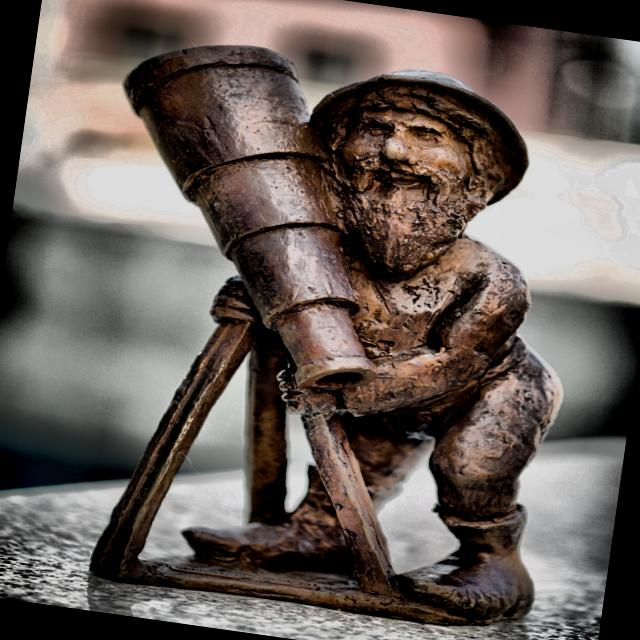Lunetyk: (92, 45, 564, 630)
